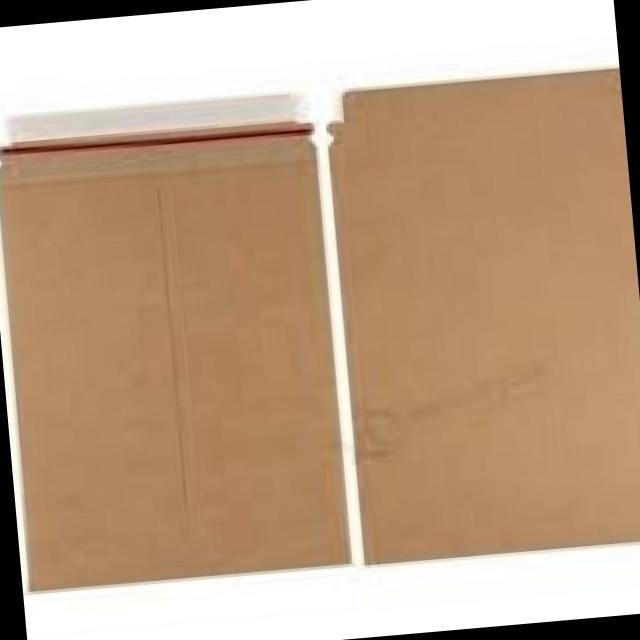cardboard paper: (0, 118, 347, 588), (328, 67, 640, 560)
